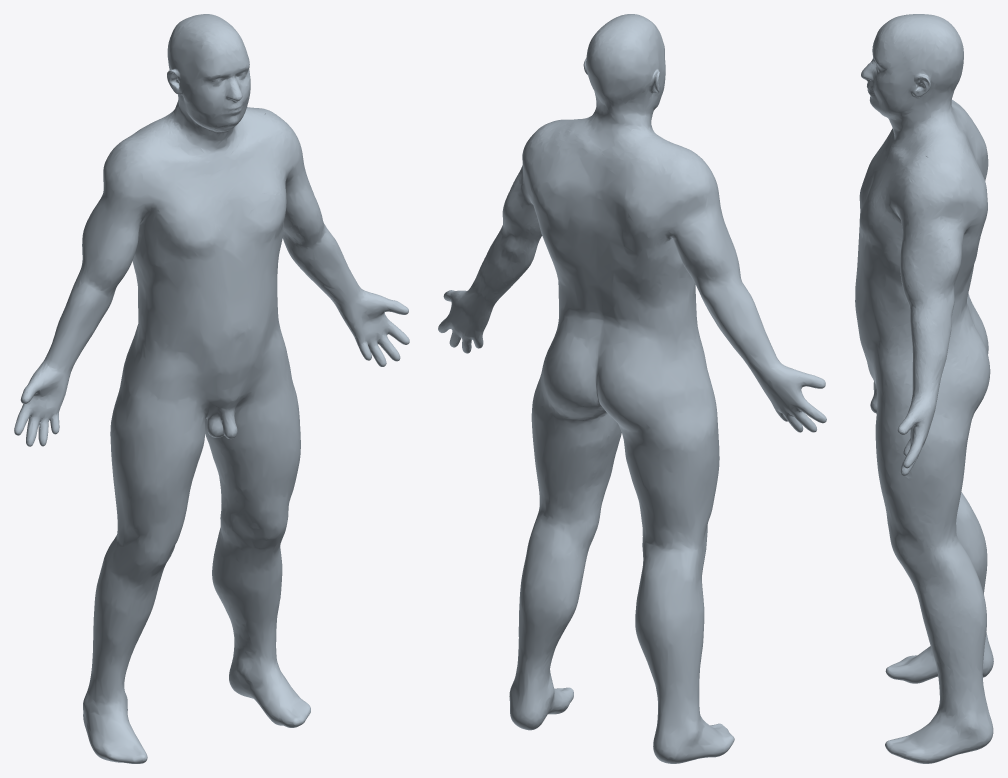
Rendered from male.glb.
The picture shows the model from 3 angles, left to right: view 1: azimuth 30°, elevation 25°; view 2: azimuth 150°, elevation 25°; view 3: azimuth 270°, elevation 25°; orthographic projection. The views are drawn at different scales.
Parts seen in each view (by area): view 1: skin; view 2: skin; view 3: skin.
Boxes of the visible parts, x1,y1,x2,y2 form: skin: [14, 14, 409, 763]; skin: [438, 14, 826, 763]; skin: [855, 14, 993, 763].
Bounding box in the file's own units: 1.04 × 1.82 × 0.3256.
